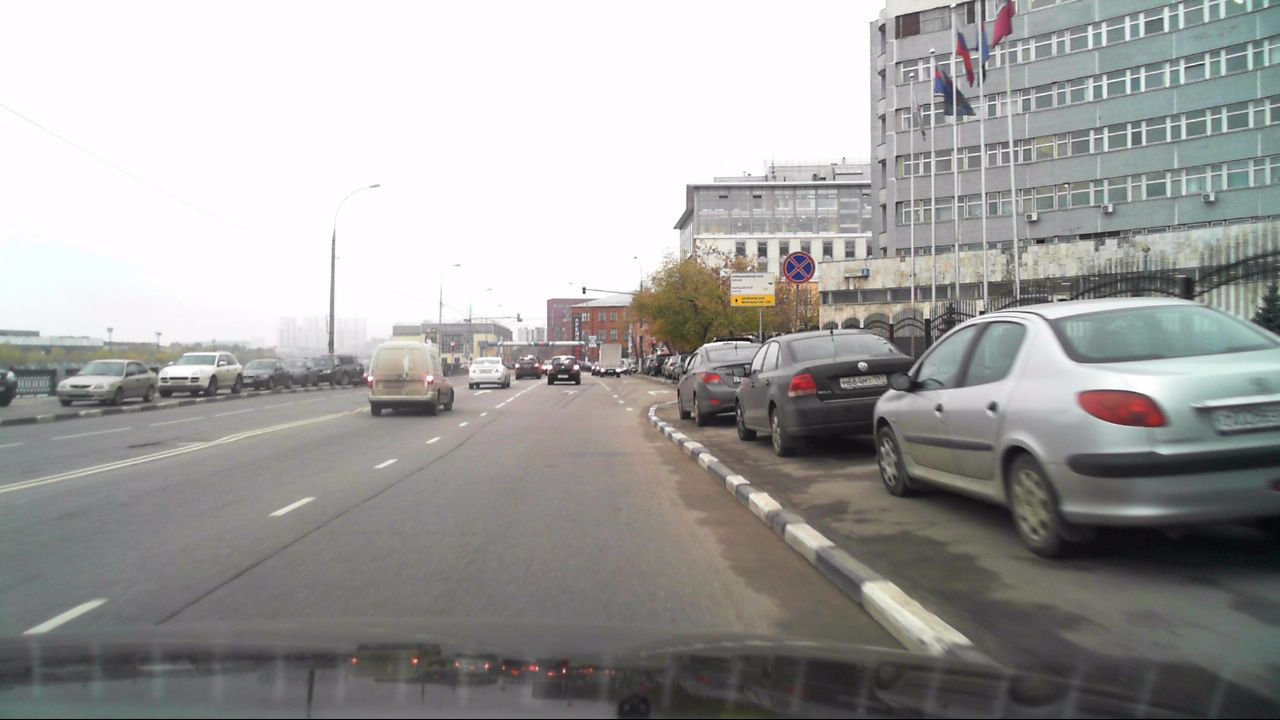No Parking: (783, 249, 816, 283)
